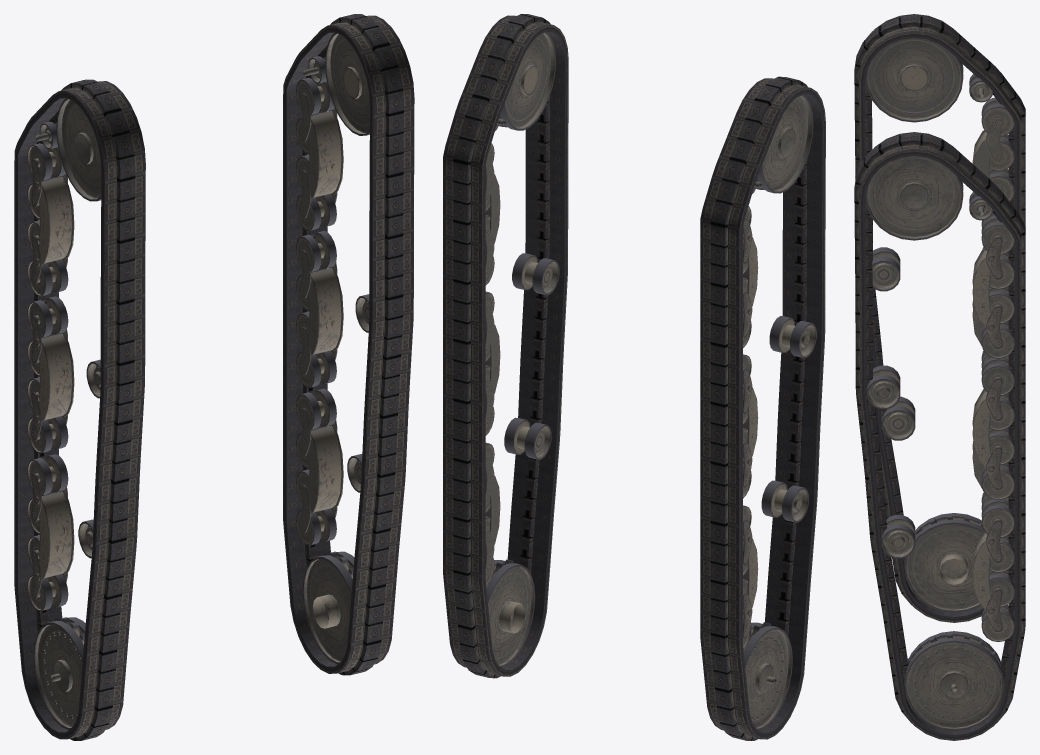
The model's file is Chassis.glb.
3 renders of one model, left to right at view 1: azimuth 30°, elevation 25°; view 2: azimuth 150°, elevation 25°; view 3: azimuth 270°, elevation 25°, orthographic. The views are drawn at different scales.
Visible parts, largest first — view 1: set_0_group_0, set_1_group_0, set_5_group_0, set_3_group_0, set_2_group_0, set_4_group_0; view 2: set_1_group_0, set_0_group_0, set_5_group_0, set_3_group_0, set_4_group_0, set_2_group_0; view 3: set_5_group_0, set_1_group_0, set_3_group_0, set_0_group_0, set_4_group_0.
Boxes of the visible parts, x1=… form: set_0_group_0: x1=14, y1=79, x2=145, y2=740; set_1_group_0: x1=283, y1=14, x2=414, y2=675; set_5_group_0: x1=296, y1=32, x2=369, y2=664; set_3_group_0: x1=27, y1=98, x2=101, y2=729; set_2_group_0: x1=31, y1=315, x2=72, y2=598; set_4_group_0: x1=300, y1=250, x2=342, y2=533; set_1_group_0: x1=443, y1=14, x2=568, y2=678; set_0_group_0: x1=700, y1=76, x2=825, y2=740; set_5_group_0: x1=485, y1=32, x2=559, y2=667; set_3_group_0: x1=743, y1=94, x2=816, y2=730; set_4_group_0: x1=485, y1=305, x2=498, y2=575; set_2_group_0: x1=743, y1=368, x2=756, y2=638; set_5_group_0: x1=865, y1=156, x2=1014, y2=730; set_1_group_0: x1=854, y1=132, x2=1025, y2=740; set_3_group_0: x1=865, y1=38, x2=1014, y2=612; set_0_group_0: x1=854, y1=14, x2=1025, y2=622; set_4_group_0: x1=974, y1=378, x2=1002, y2=631.
Size of the model in its own units: 2.06 by 4.23 by 1.1.
Materials: 6 (6 with a texture image).
